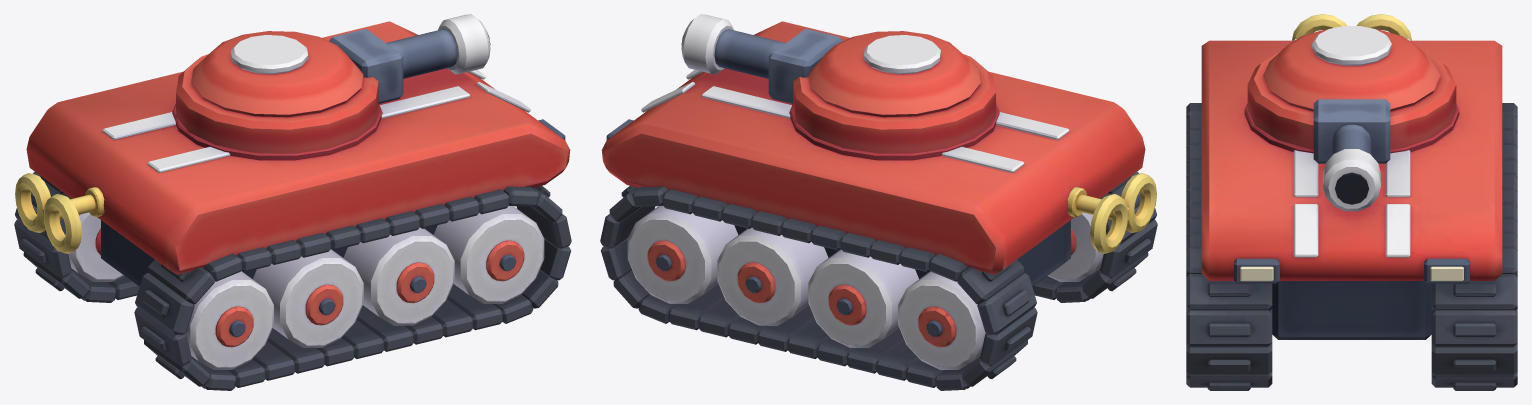
File: enemy_toytank.glb
3 views of the same model, side by side, from view 1: azimuth 30°, elevation 25°; view 2: azimuth 150°, elevation 25°; view 3: azimuth 270°, elevation 25° (orthographic). The views are drawn at different scales.
Visible parts, largest first — view 1: hull, turret; view 2: hull, turret; view 3: hull, turret.
Part boxes in pixels (<box>): hull: <box>14,21,571,390</box>; turret: <box>172,14,490,160</box>; hull: <box>600,21,1157,390</box>; turret: <box>681,14,999,160</box>; hull: <box>1186,14,1517,390</box>; turret: <box>1244,26,1459,211</box>.
Size of the model in its own units: 3.61 by 1.9 by 2.16.
Materials: 2 (2 with a texture image).
